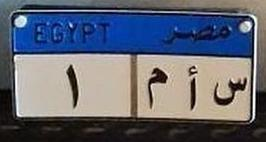1: (60, 62, 86, 109)
alif: (182, 65, 201, 112)
meem: (144, 66, 170, 111)
seen: (208, 73, 251, 109)
